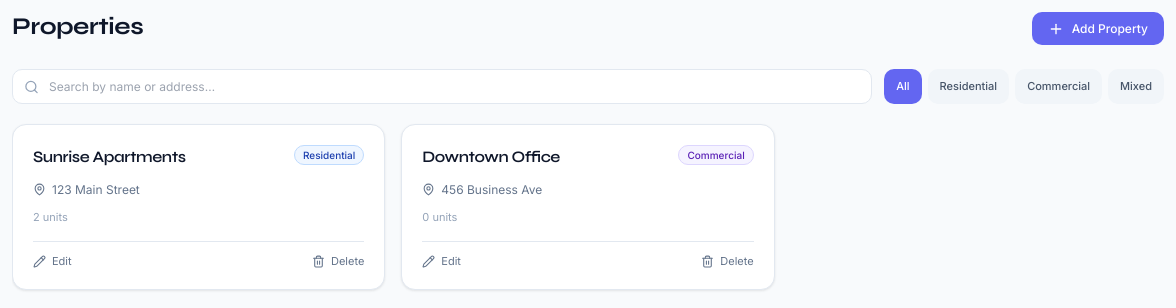
Test: PropertiesList › filters properties by search input
Type "sunrise" into the field with placeholder "Search by name or address…".
click(442, 86); type("sunrise")  # box [12,69,872,104]
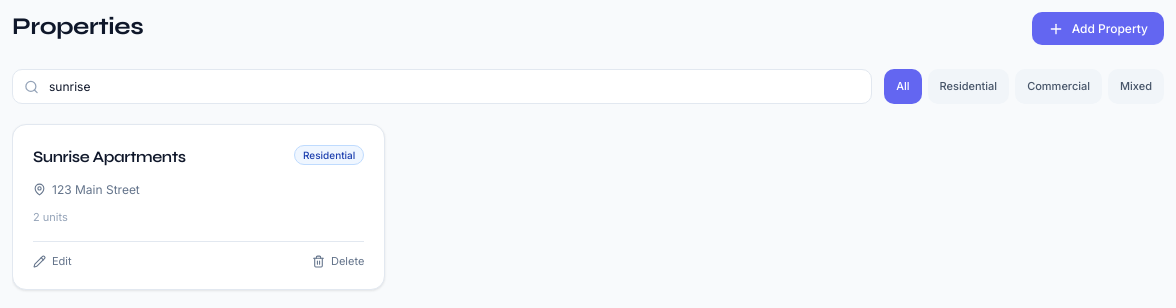
Expected: the heading "Sunrise Apartments" is shown, [33,145,194,169]
Expected: the heading "Downtown Office" is gone
